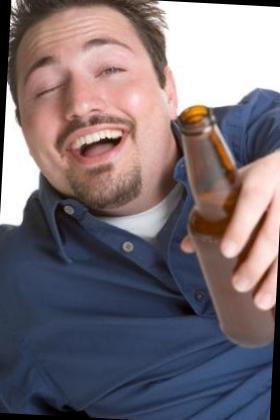Drunk: (19, 25, 167, 198)
